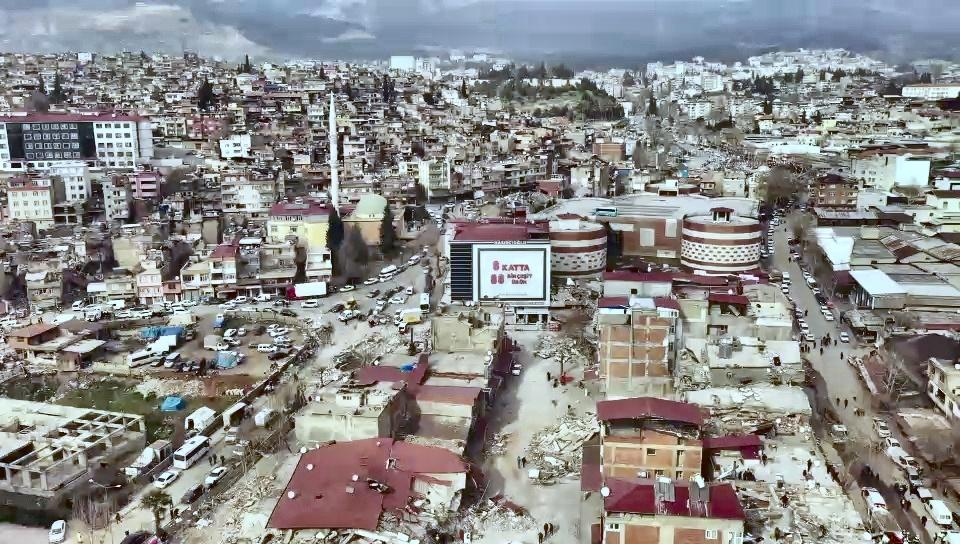kapali: (467, 384, 598, 493), (171, 460, 297, 543)
